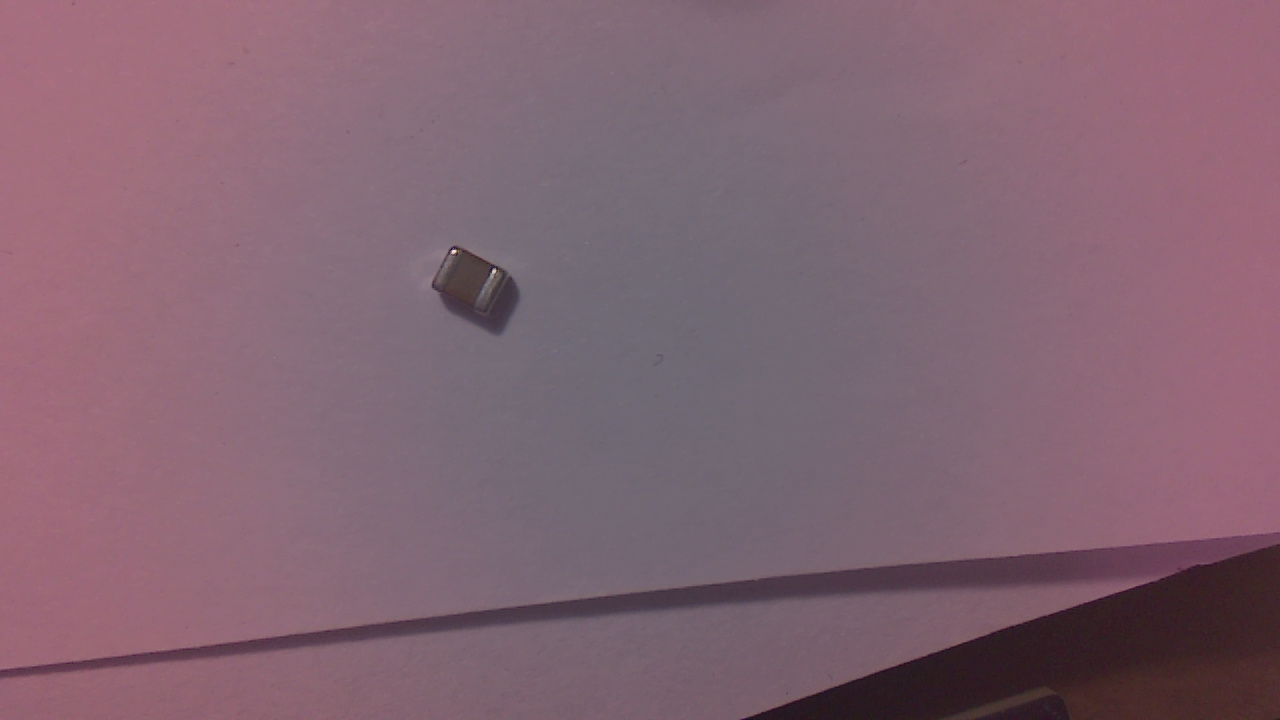Condensator: (435, 249, 517, 329)
